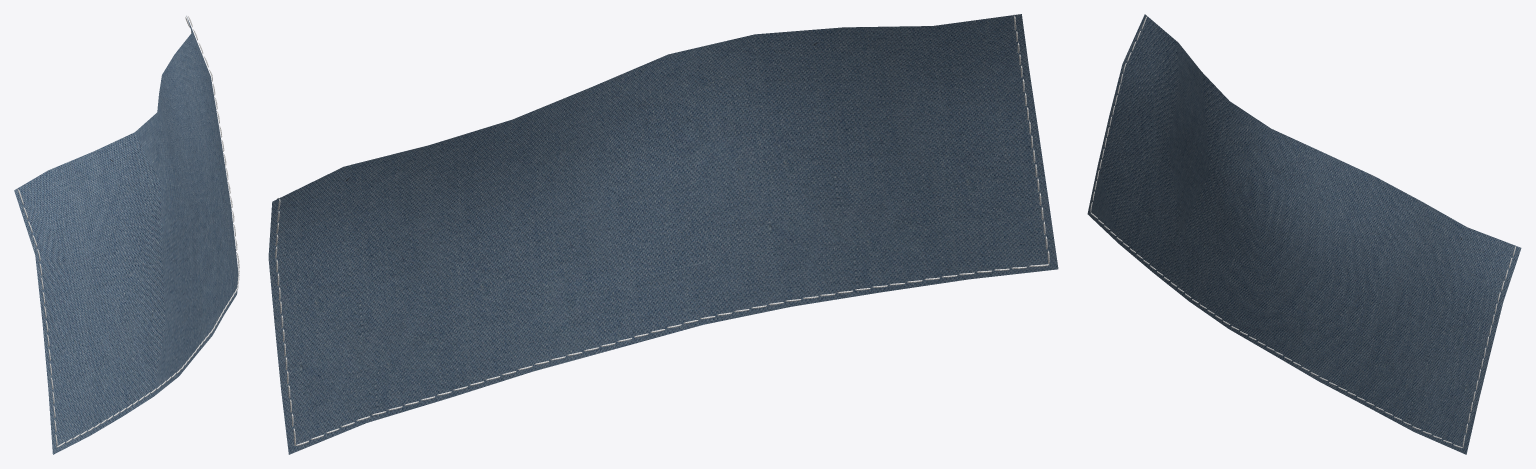
Rendered from sz2zuoqdougq.glb.
3 renders of one model, left to right at view 1: azimuth 30°, elevation 25°; view 2: azimuth 150°, elevation 25°; view 3: azimuth 270°, elevation 25°, orthographic. The views are drawn at different scales.
Parts seen in each view (by area): view 1: sz2zuoqdougq, _1; view 2: sz2zuoqdougq, _1; view 3: sz2zuoqdougq, _1.
Boxes of the visible parts, left/top/right/bottom form: sz2zuoqdougq: left=14, top=16, right=238, bottom=454; _1: left=17, top=16, right=239, bottom=447; sz2zuoqdougq: left=268, top=14, right=1058, bottom=454; _1: left=275, top=14, right=1049, bottom=445; sz2zuoqdougq: left=1087, top=14, right=1521, bottom=454; _1: left=1090, top=16, right=1516, bottom=447.
Size of the model in its own units: 1.14 by 0.8573 by 1.24.
Materials: 2 (2 with a texture image).
